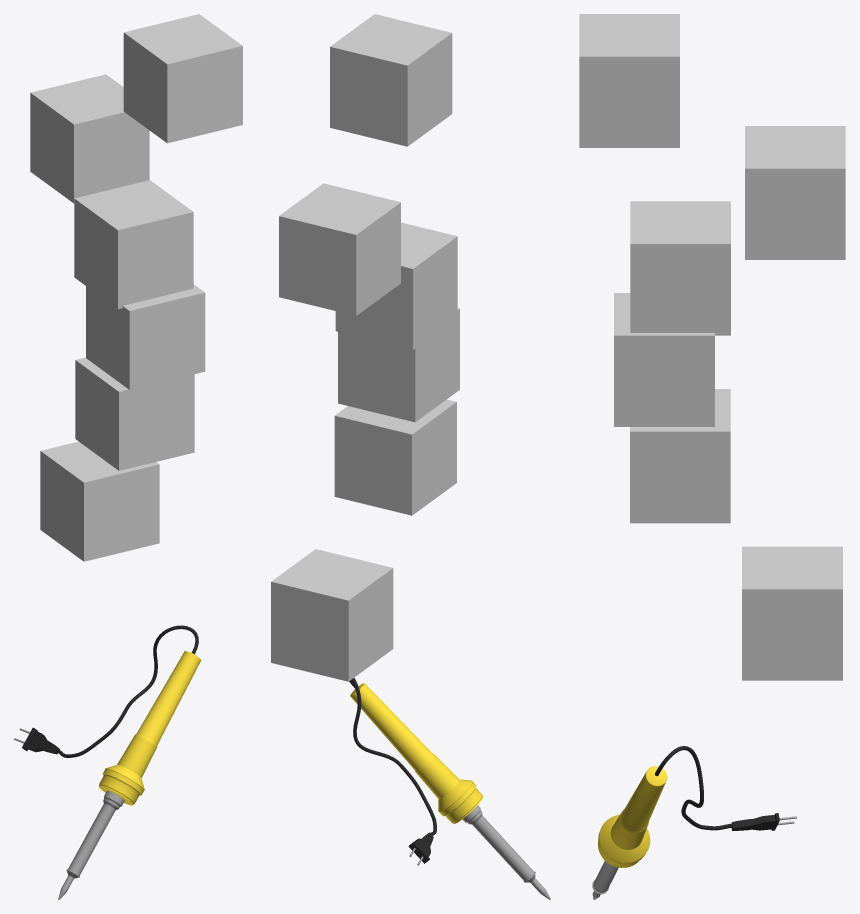
The model's file is solder_rod_1.fbx.
The picture shows the model from 3 angles, left to right: view 1: azimuth 30°, elevation 25°; view 2: azimuth 150°, elevation 25°; view 3: azimuth 270°, elevation 25°; orthographic projection. The views are drawn at different scales.
Parts seen in each view (by area): view 1: Cube.005, Cube.003, Cube.002, Cube.004, Cube, Cube.001, base, wire, socket; view 2: Cube.005, Cube.004, Cube.002, Cube, Cube.001, Cube.003, base, wire; view 3: Cube.004, Cube.002, Cube.005, Cube.003, Cube, Cube.001, base, wire, socket.
Boxes of the visible parts, x1,y1,x2,y2 form: Cube.005: (123,14,242,143); Cube.003: (74,180,193,309); Cube.002: (30,74,149,203); Cube.004: (40,441,159,561); Cube: (75,357,194,470); Cube.001: (86,284,205,389); base: (58,651,201,899); wire: (55,625,198,757); socket: (22,727,59,754); Cube.005: (330,14,452,146); Cube.004: (271,549,393,681); Cube.002: (279,183,400,315); Cube: (334,399,456,515); Cube.001: (338,308,459,422); Cube.003: (335,222,457,349); base: (350,683,550,899); wire: (349,678,436,835); Cube.004: (742,546,842,680); Cube.002: (745,126,845,259); Cube.005: (579,14,679,147); Cube.003: (630,201,730,335); Cube: (630,389,730,523); Cube.001: (614,293,714,426); base: (592,766,667,899); wire: (655,746,732,830); socket: (731,813,779,830).
Size of what is drawn, in the model's own units: 229 by 1001 by 256.
